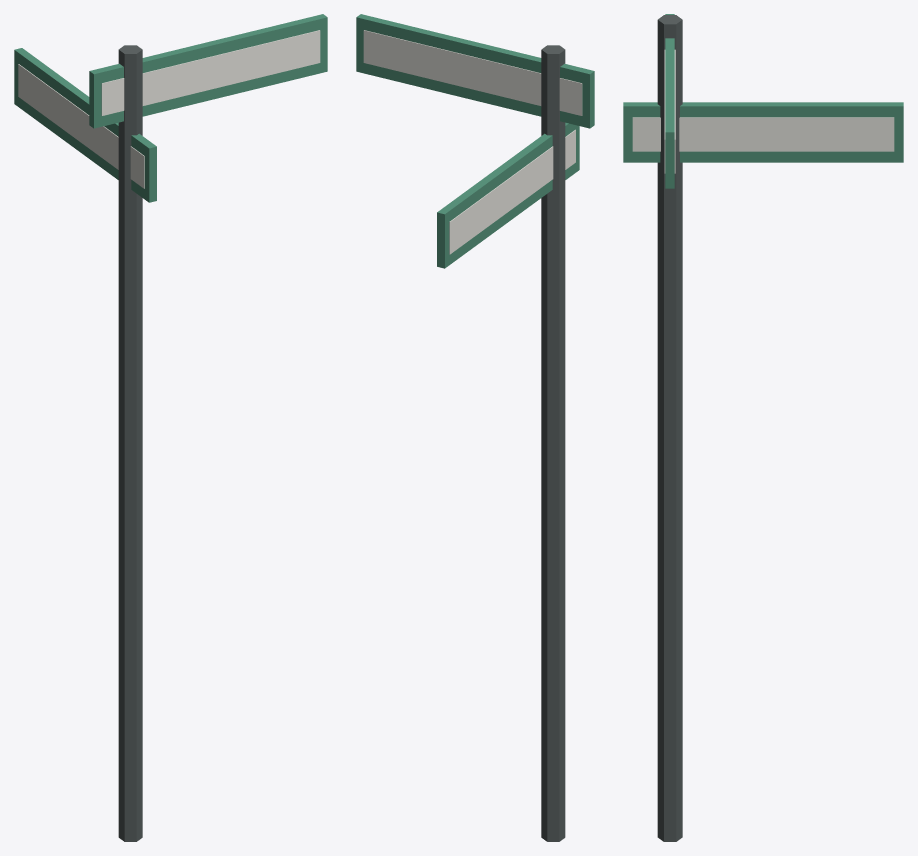
The model's file is sign_post.glb.
The picture shows the model from 3 angles, left to right: view 1: azimuth 30°, elevation 25°; view 2: azimuth 150°, elevation 25°; view 3: azimuth 270°, elevation 25°; orthographic projection. The views are drawn at different scales.
Visible parts, largest first — view 1: sign_post; view 2: sign_post; view 3: sign_post.
Boxes of the visible parts, bbox=[...] form: sign_post: bbox=[14, 14, 327, 841]; sign_post: bbox=[356, 14, 594, 841]; sign_post: bbox=[623, 14, 903, 841].
Bounding box in the file's own units: 0.9 × 2.9 × 0.9.
